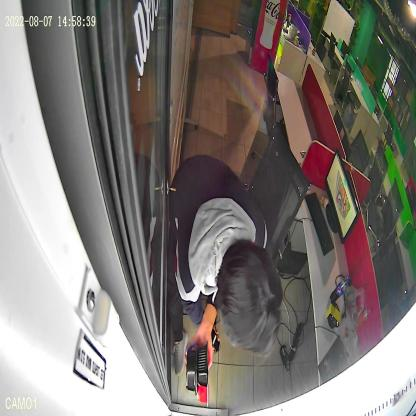blue: (186, 342, 198, 396)
red: (197, 340, 211, 407)
